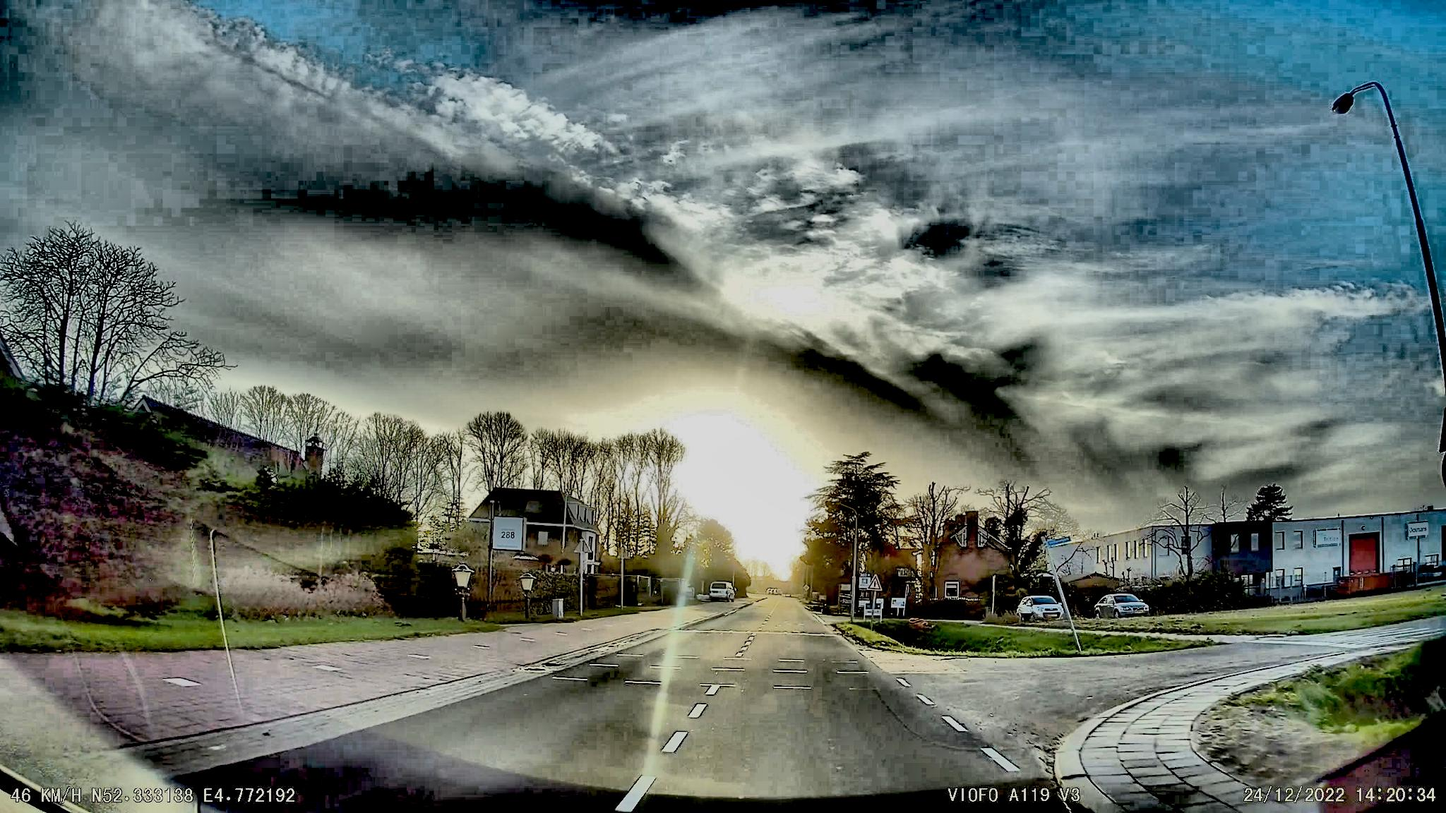Roads: (180, 600, 1287, 813)
